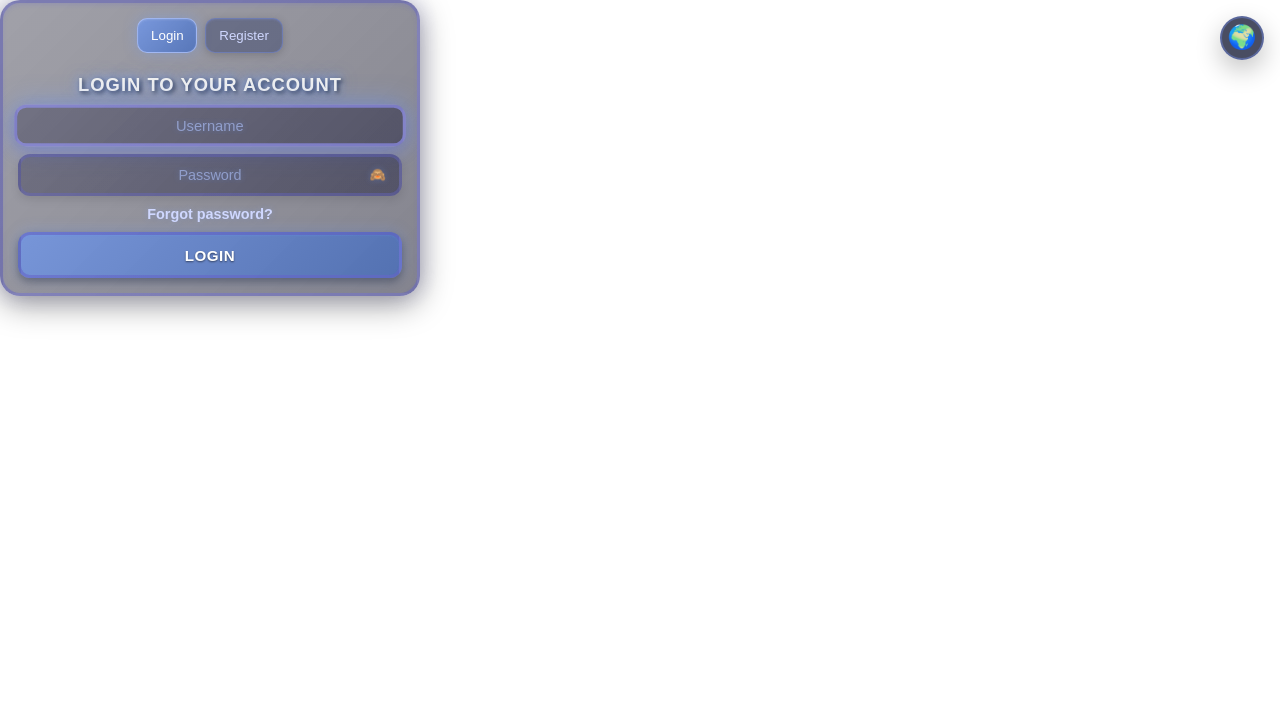
Test case: AuthMenu › uses dark styling for the language options overlay
This screenshot has width=1280, height=720.
What coordinates should you click on to do the following:
click the button named "language"
I would click on:
 (1242, 38)
Its box is [1220,16,1264,60].
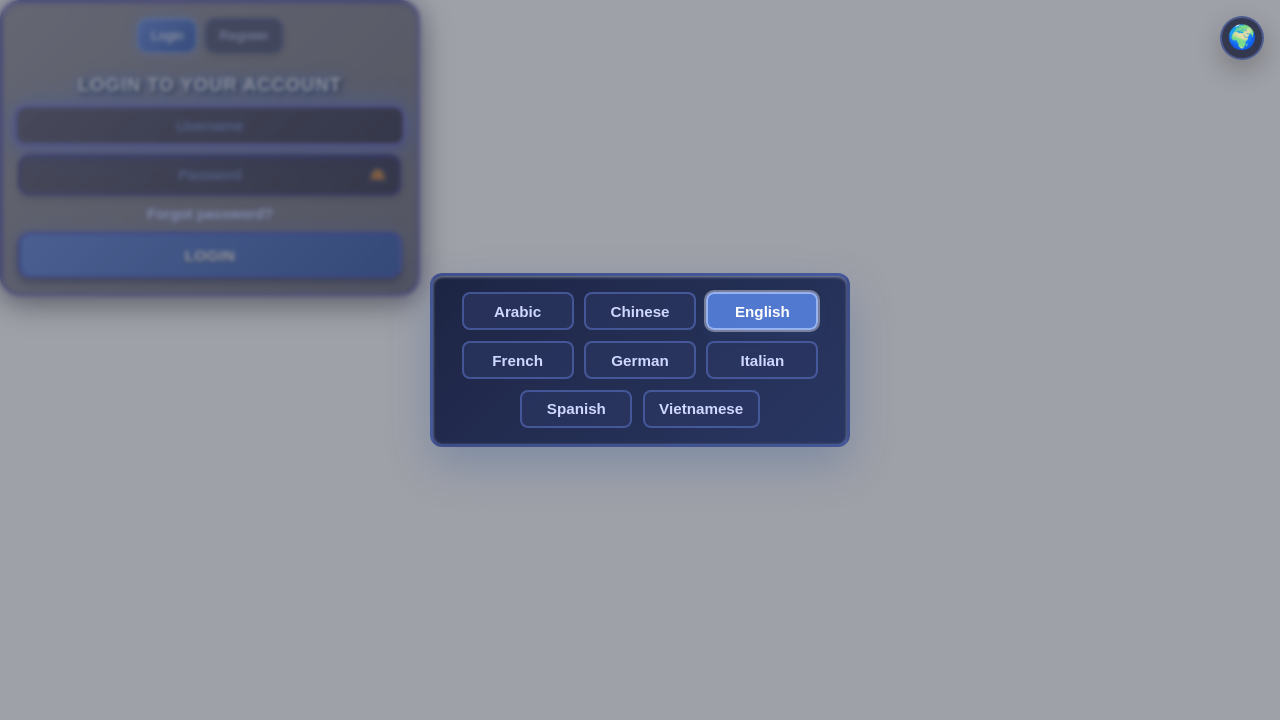
Now the element with class "dark" that starts with "Arabic" is shown
